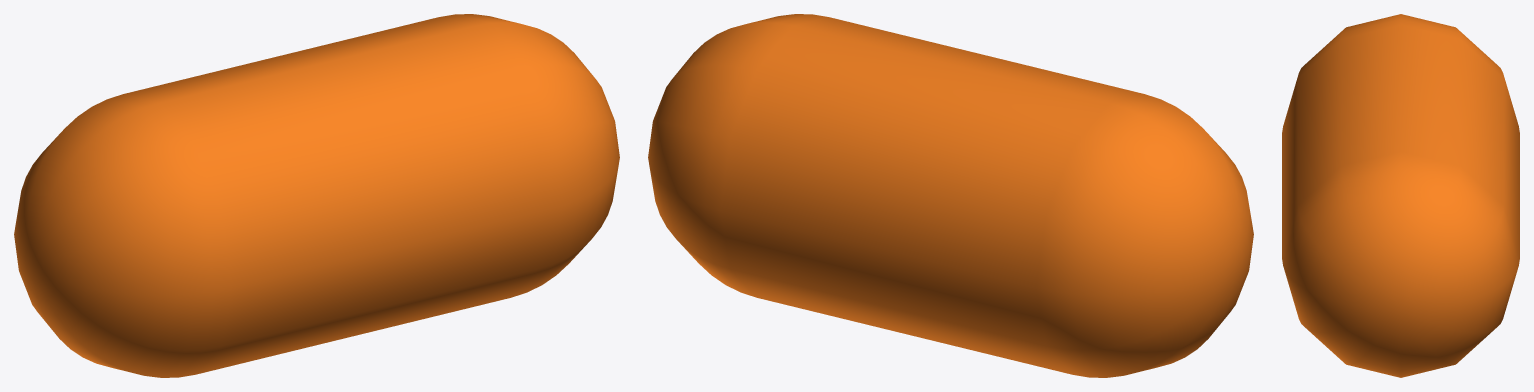
The picture shows the model from 3 angles, left to right: view 1: azimuth 30°, elevation 25°; view 2: azimuth 150°, elevation 25°; view 3: azimuth 270°, elevation 25°; orthographic projection. The views are drawn at different scales.
Parts seen in each view (by area): view 1: gripper_frame; view 2: gripper_frame; view 3: gripper_frame.
Boxes of the visible parts, x1,y1,x2,y2 form: gripper_frame: (14,14,619,377); gripper_frame: (648,14,1253,377); gripper_frame: (1282,14,1519,377).
Size of the model in its own units: 0.0209 by 0.00927 by 0.00927.
